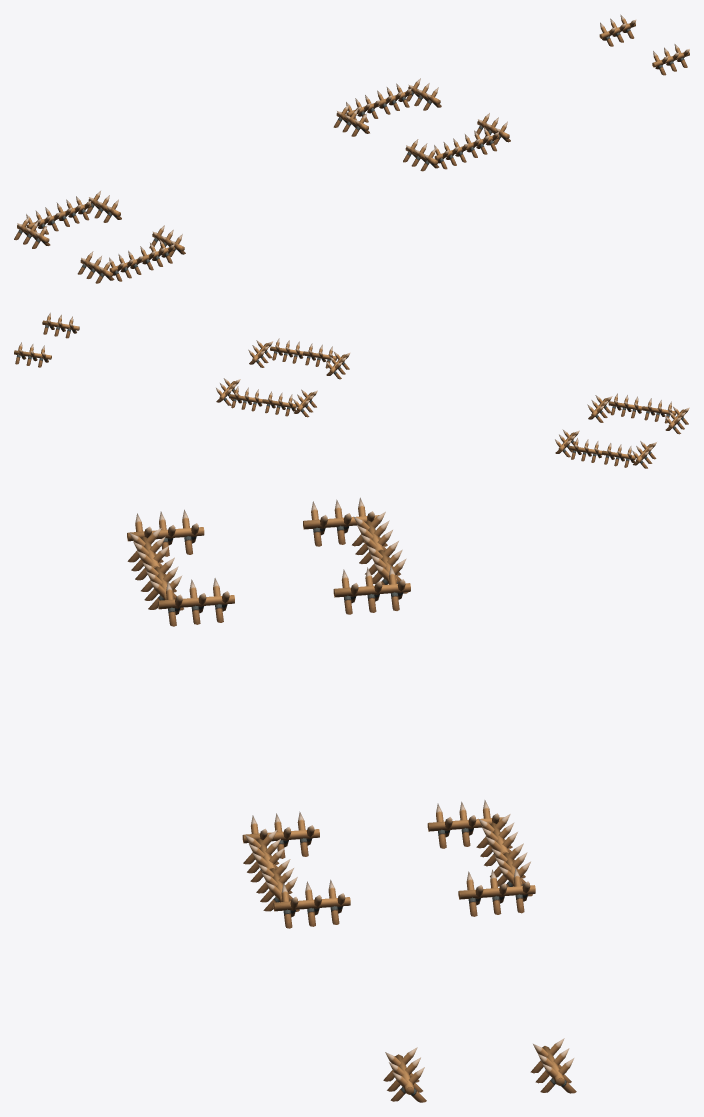
The model's file is area_09_16.fbx.
3 views of the same model, one above another, from view 1: azimuth 30°, elevation 25°; view 2: azimuth 150°, elevation 25°; view 3: azimuth 270°, elevation 25° (orthographic). The views are drawn at different scales.
Parts seen in each view (by area): view 1: area_09_16; view 2: area_09_16; view 3: area_09_16.
Boxes of the visible parts, left/top/right/bottom form: area_09_16: left=14, top=14, right=689, bottom=283; area_09_16: left=14, top=312, right=689, bottom=468; area_09_16: left=127, top=497, right=576, bottom=1102.
Bounding box in the file's own units: 93.89 × 2.61 × 30.74.
